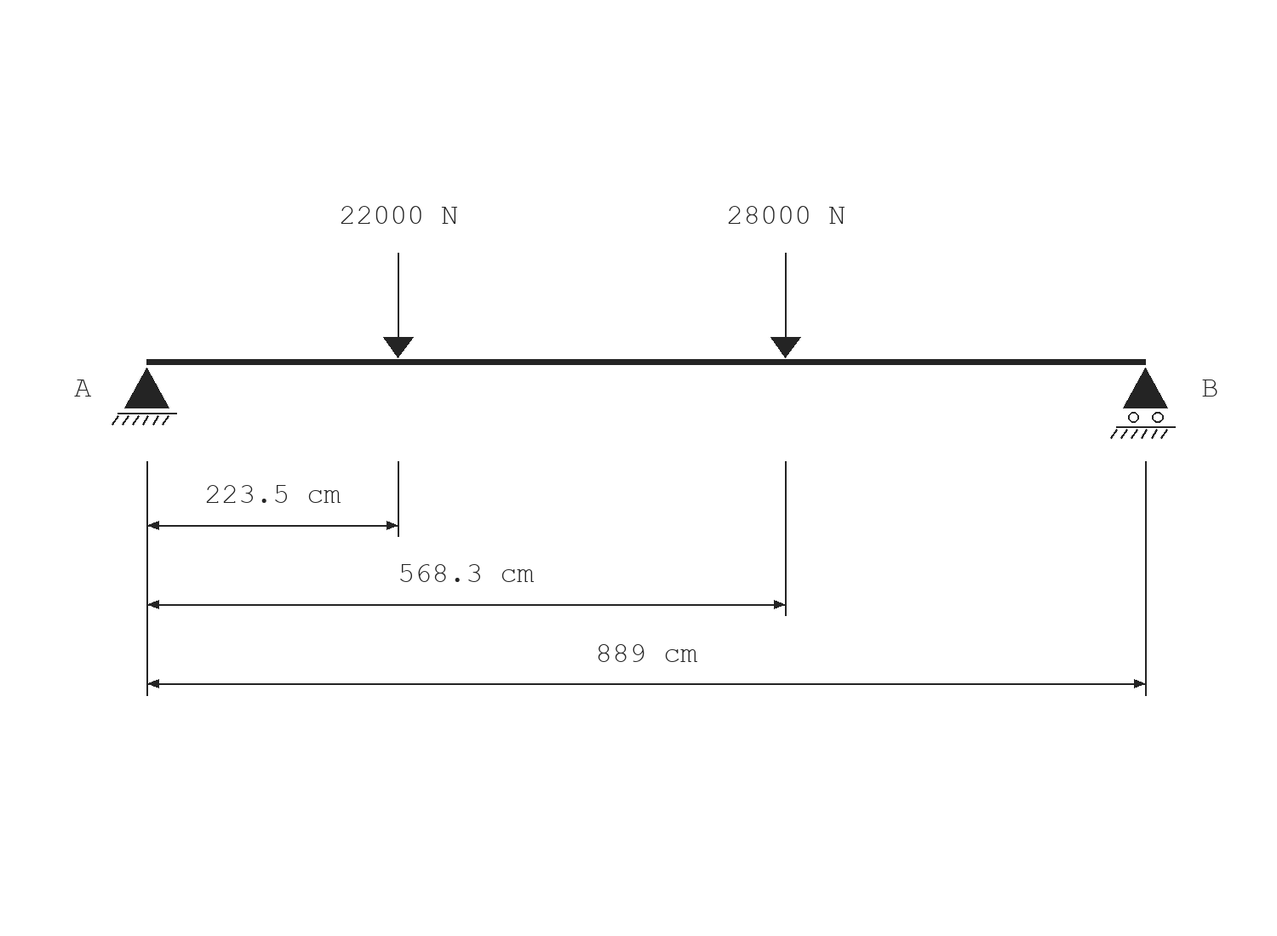pin_support: (112, 368, 177, 425)
point_load: (383, 253, 414, 358), (770, 253, 801, 358)
roller_support: (1110, 368, 1176, 439)
